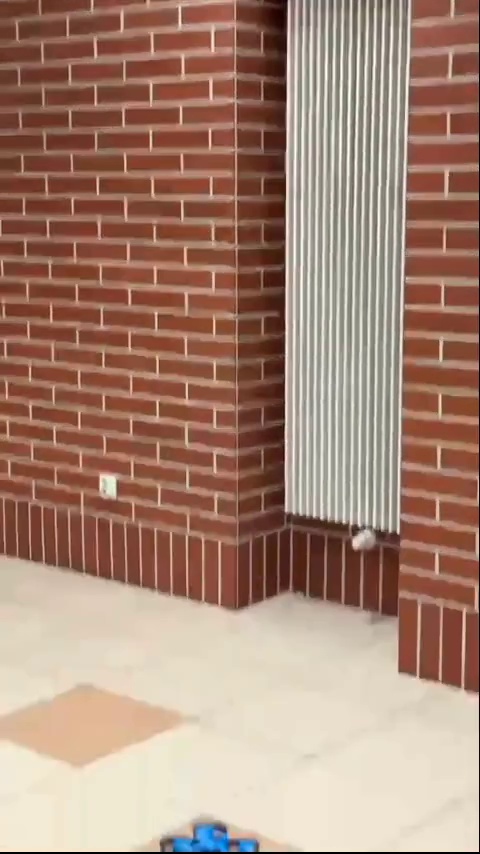drone: (156, 817, 270, 854)
